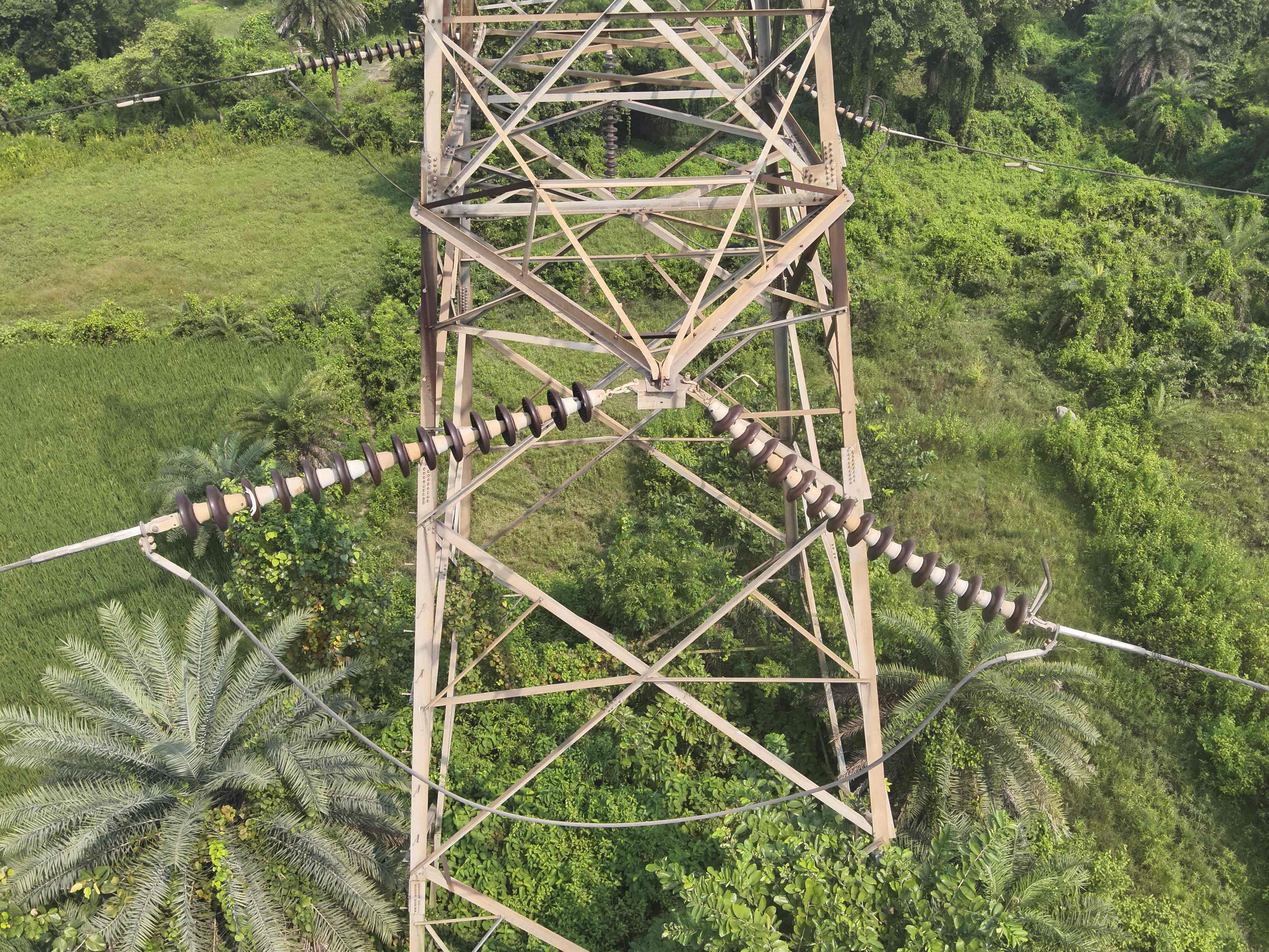broken_insulator: (232, 473, 264, 525)
